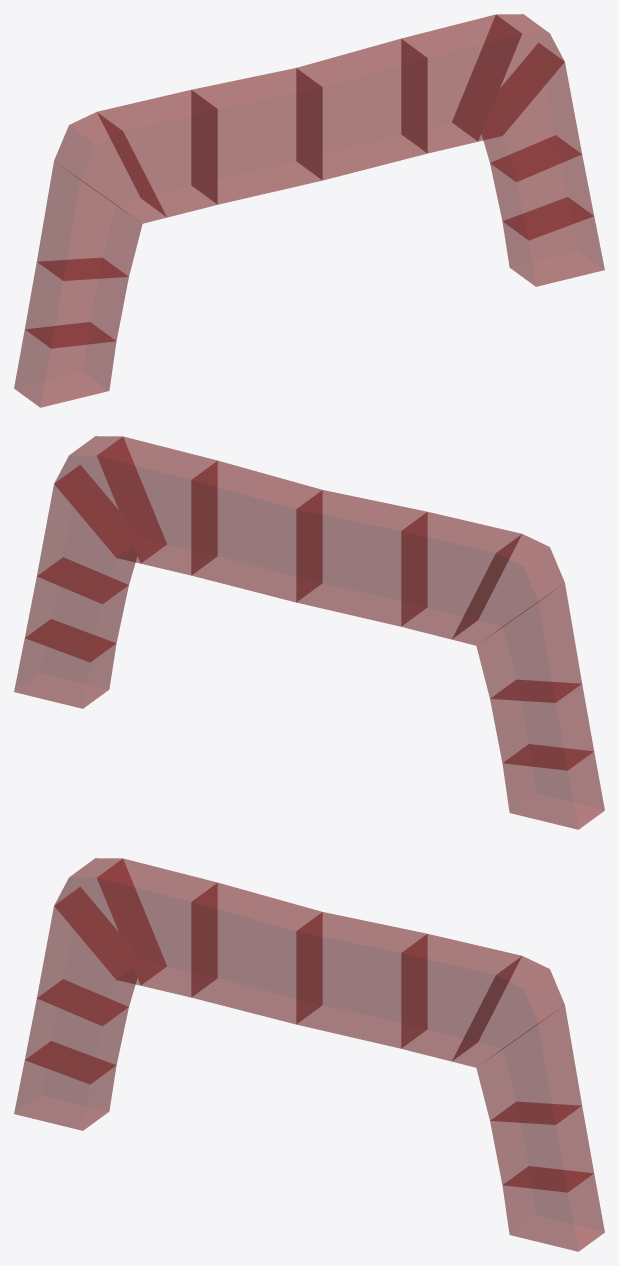
Rendered from SM_Prop_Gantry_06_Collision.fbx.
3 views of the same model, one above another, from view 1: azimuth 30°, elevation 25°; view 2: azimuth 150°, elevation 25°; view 3: azimuth 330°, elevation 25° (orthographic).
Visible parts, largest first — view 1: SM_Prop_Gantry_06_Collision; view 2: SM_Prop_Gantry_06_Collision; view 3: SM_Prop_Gantry_06_Collision.
Boxes of the visible parts, bbox=[...] form: SM_Prop_Gantry_06_Collision: bbox=[14, 14, 604, 407]; SM_Prop_Gantry_06_Collision: bbox=[14, 436, 604, 829]; SM_Prop_Gantry_06_Collision: bbox=[14, 858, 604, 1251].
Size of the model in its own units: 1094 by 475 by 88.6.
